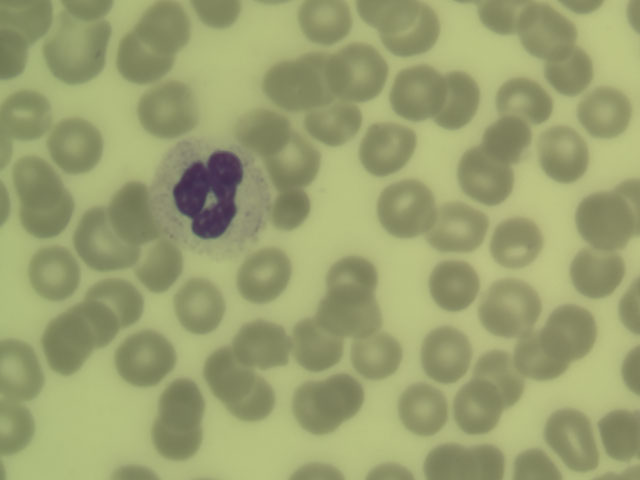RBC: (315, 283, 386, 340), (170, 277, 231, 337), (380, 180, 438, 236), (359, 121, 417, 177), (262, 133, 320, 189), (303, 87, 361, 143), (295, 47, 353, 103), (331, 45, 389, 101), (262, 55, 320, 111), (117, 29, 175, 85), (45, 29, 103, 85), (138, 81, 196, 137), (149, 406, 207, 462), (155, 372, 213, 428), (116, 329, 174, 385), (75, 209, 133, 265), (25, 245, 83, 301), (19, 180, 77, 236), (49, 117, 107, 173), (473, 347, 531, 403), (514, 328, 572, 384), (544, 302, 602, 358), (484, 279, 542, 335), (422, 258, 480, 314), (569, 241, 627, 297), (575, 191, 633, 247), (488, 215, 546, 271), (535, 126, 593, 182), (458, 151, 516, 207), (578, 86, 636, 142), (518, 6, 576, 62), (428, 71, 486, 127), (389, 65, 447, 121), (386, 1, 444, 57), (230, 315, 288, 371), (234, 246, 292, 302), (286, 316, 344, 372), (325, 249, 383, 305), (394, 381, 452, 437), (416, 323, 474, 379), (453, 380, 511, 436), (137, 1, 195, 56), (41, 316, 94, 375), (87, 276, 148, 325), (546, 405, 594, 467), (346, 331, 404, 379), (1, 339, 45, 402), (481, 112, 536, 162), (199, 348, 252, 399), (109, 180, 156, 237), (264, 184, 317, 234), (298, 1, 354, 48), (132, 243, 183, 294), (289, 380, 342, 429), (221, 375, 276, 422), (495, 74, 549, 121), (70, 300, 120, 350), (599, 401, 640, 461), (542, 48, 594, 95), (235, 108, 289, 152), (12, 154, 59, 204), (1, 399, 40, 459), (1, 90, 46, 139), (1, 1, 54, 42), (358, 1, 420, 34), (322, 376, 368, 418), (480, 1, 540, 32), (1, 33, 34, 85), (423, 443, 470, 479), (463, 443, 508, 479), (193, 1, 243, 33), (512, 449, 561, 479), (615, 340, 640, 397), (369, 453, 420, 479), (616, 280, 640, 334), (290, 455, 339, 480), (54, 1, 115, 21)
WBC: (154, 145, 265, 251)
